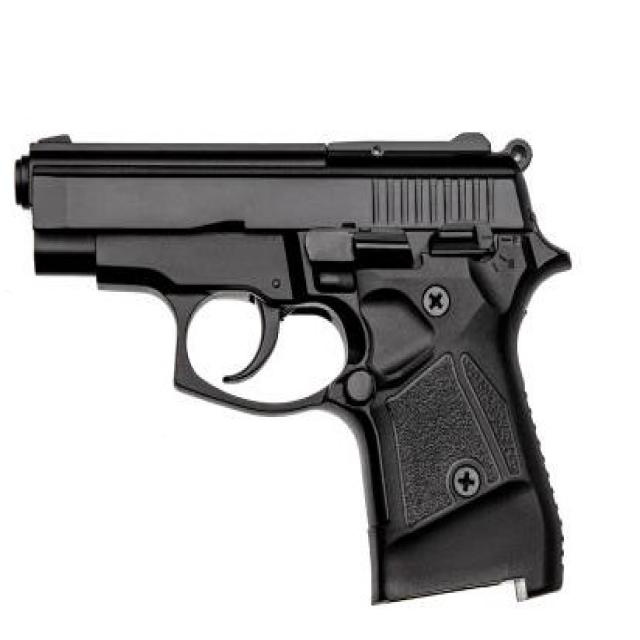pistol: (13, 121, 575, 610)
